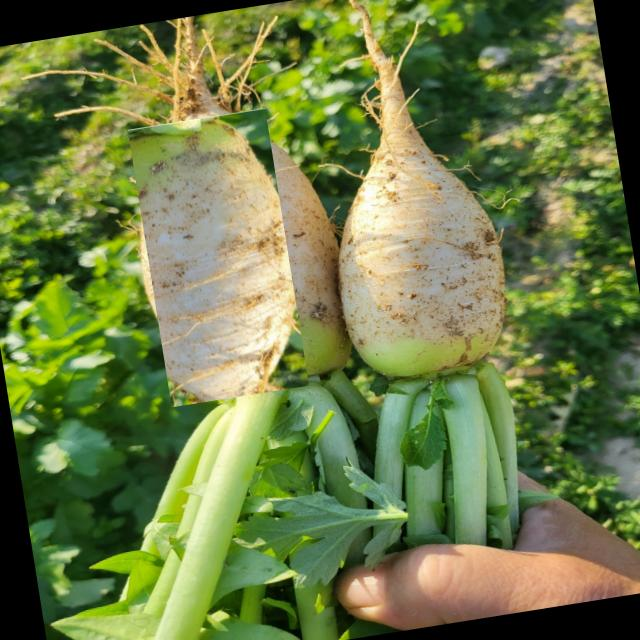radish: (128, 108, 310, 407), (323, 134, 504, 388)
